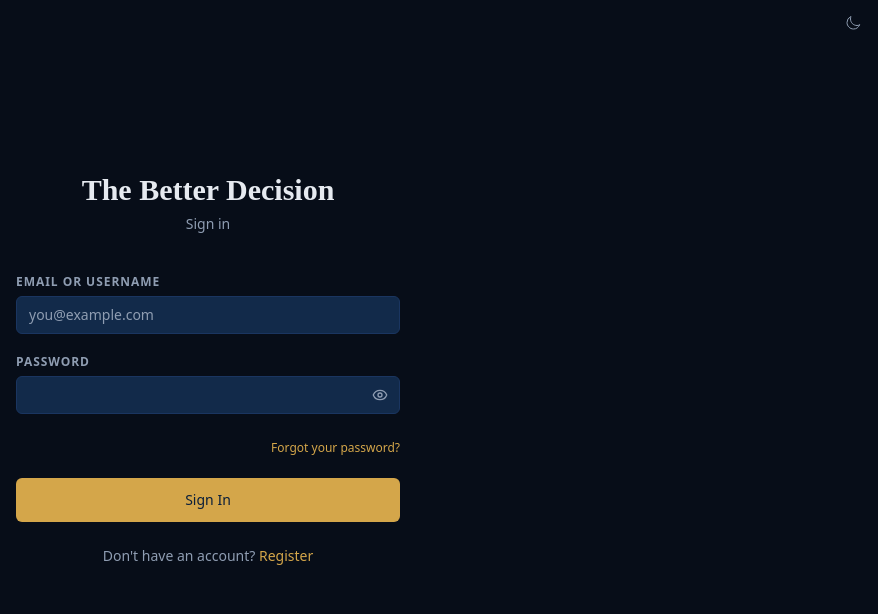
Test case: LoginPageBody — email-not-verified flow › does not show the resend button for non-email-verification errors
Type "alice" into the field labelled "Email or Username" at (208, 315), box top-left (16, 296), bottom-right (400, 334)
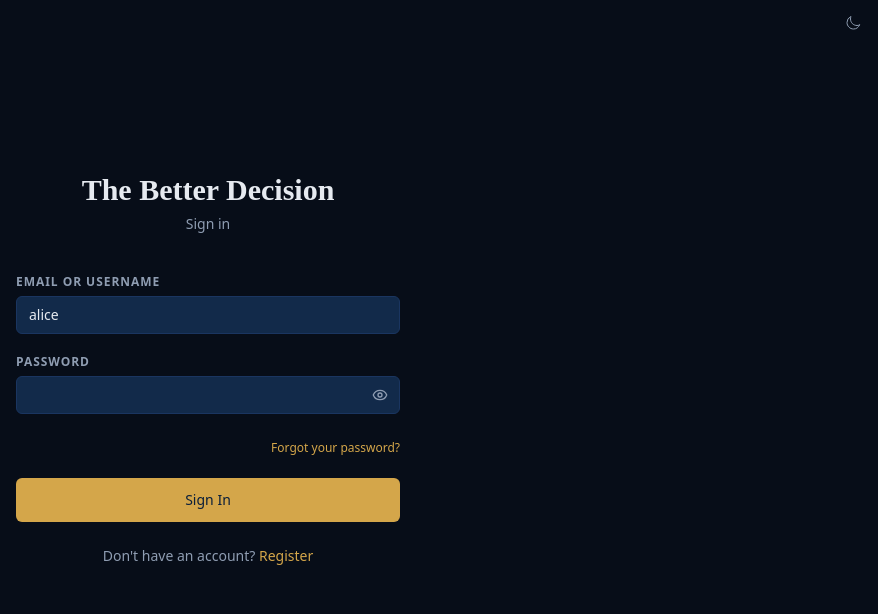
Type "wrong" into the password field labelled "Password" at (208, 395), box top-left (16, 376), bottom-right (400, 414)
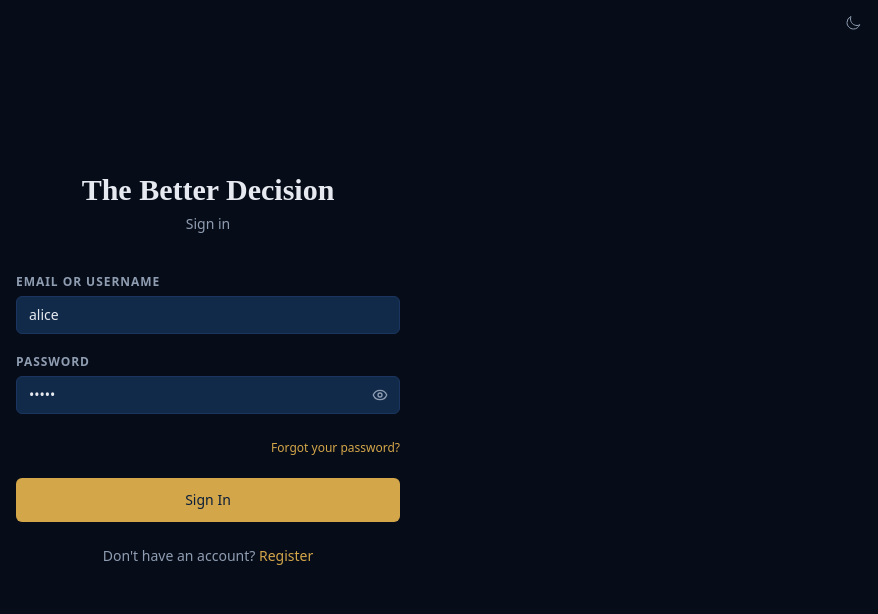
Click the button "Sign In" at (208, 500), box top-left (16, 478), bottom-right (400, 522)
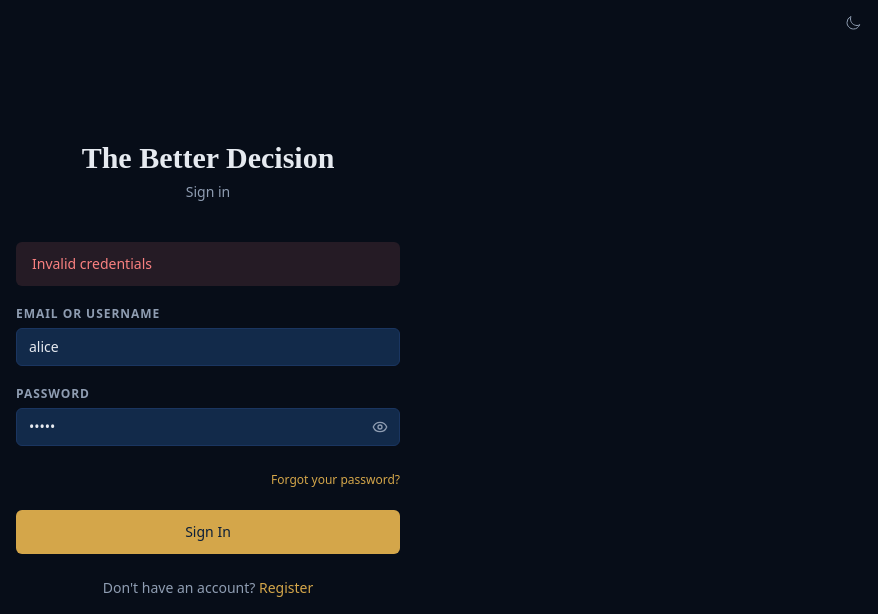
Expected: the text "Invalid credentials" is shown, top-left (32, 254), bottom-right (152, 273)
